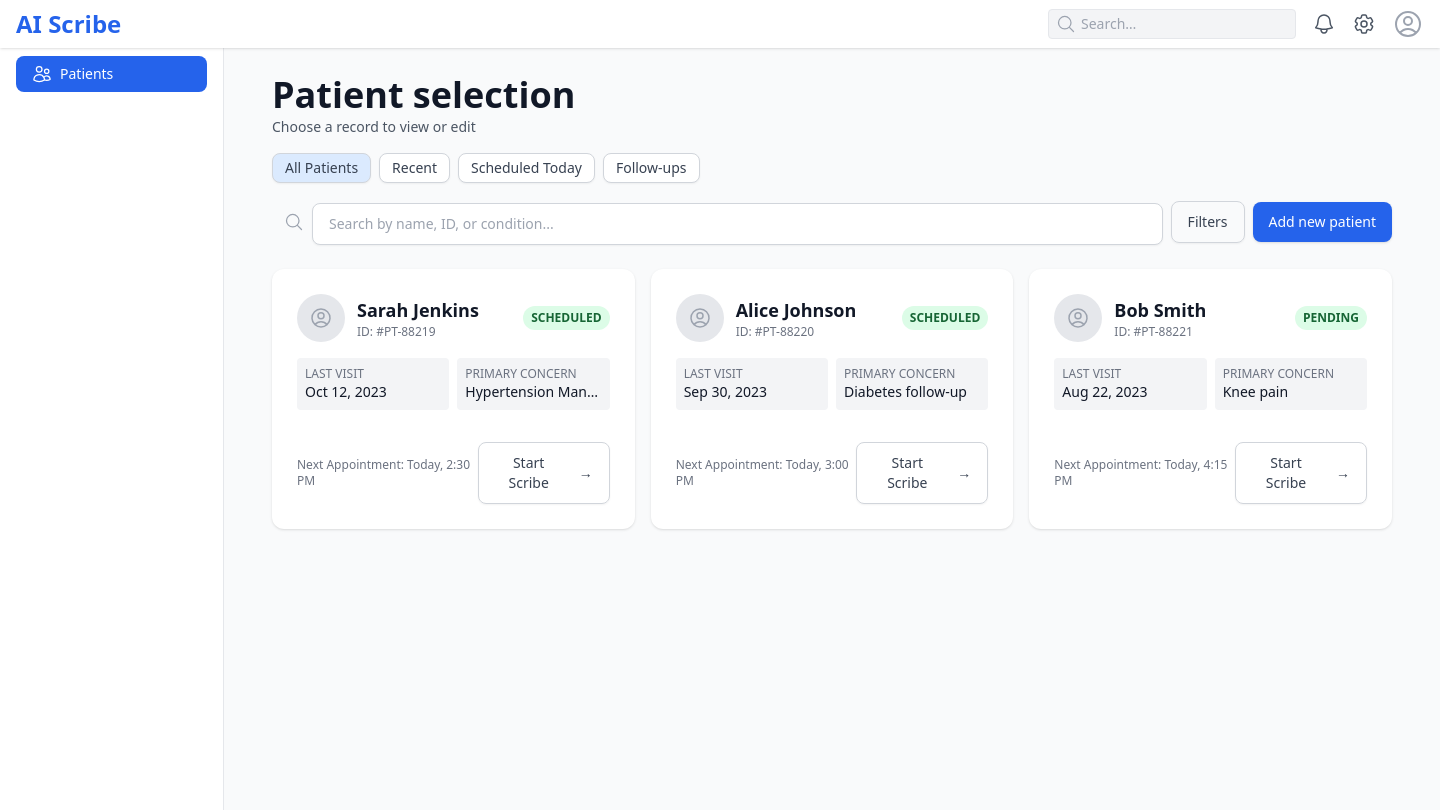
Scenario: Dashboard view › category buttons apply simple filters
follow-ups filter selects those whose concern contains 'follow'
Step 1. Click the button "Follow-ups" → (651, 168), box [603, 153, 700, 183]
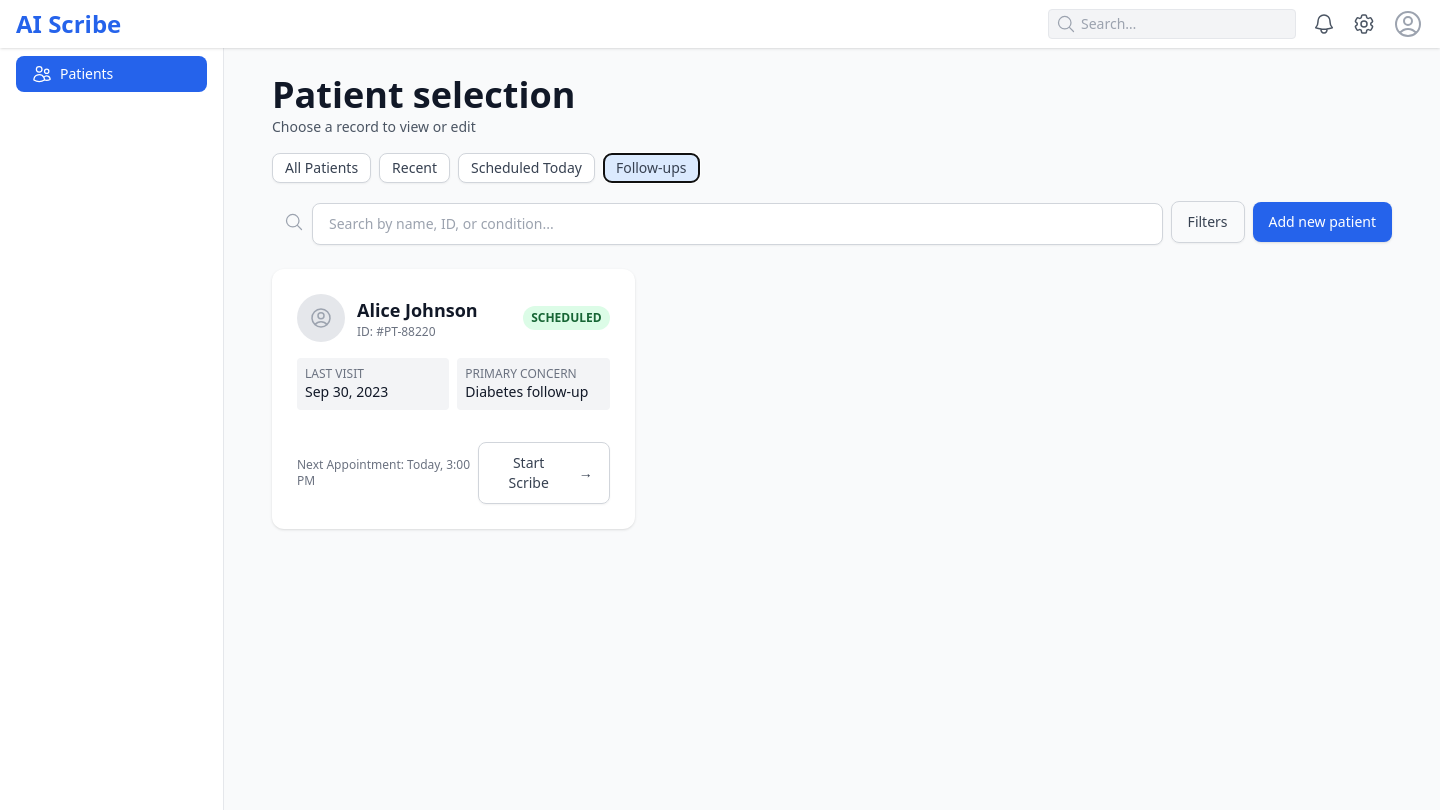
Expected: the heading "Alice Johnson" is shown, [357, 296, 478, 324]
Expected: the heading "Sarah Jenkins" is gone
Expected: the heading "Bob Smith" is gone
